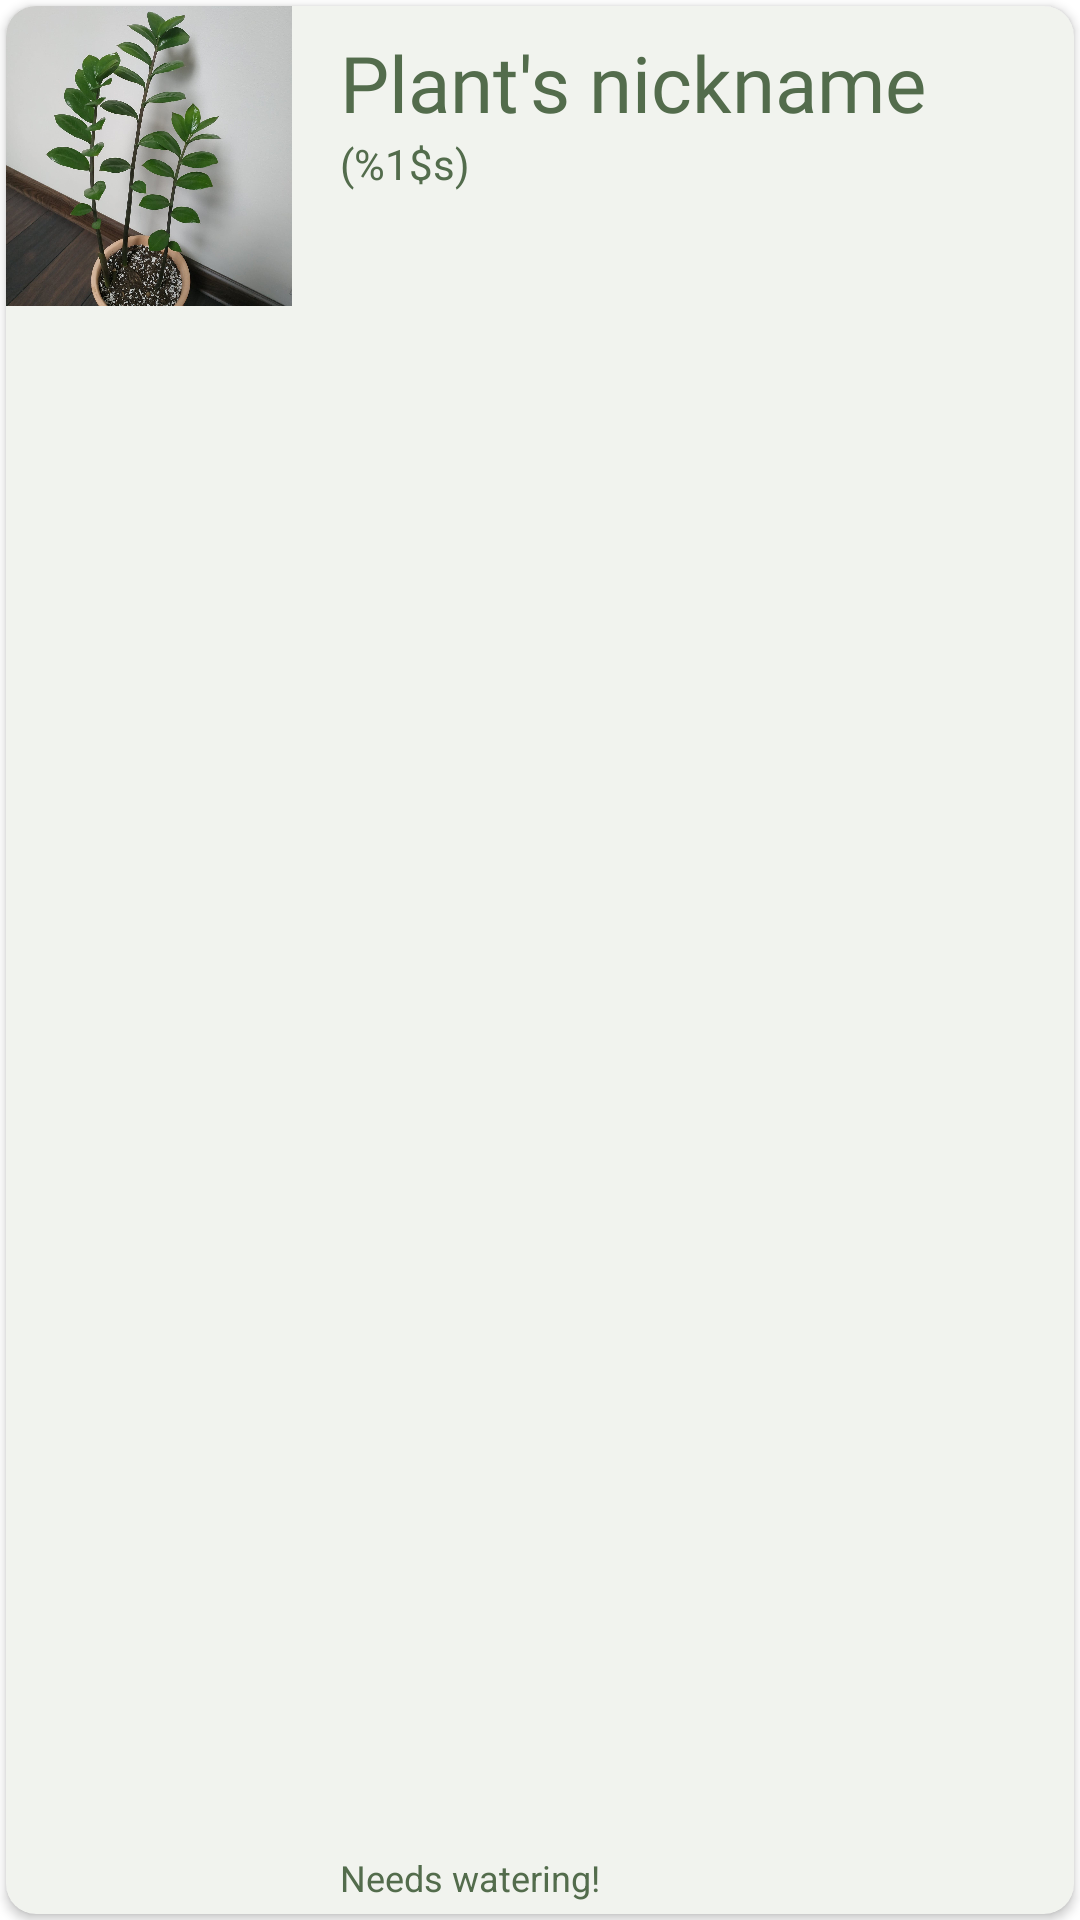

Icons on this 1080 x 1920 Android screen, each with its box as {"x1": x1, "y1": y1, "x2": x2, "y2": y2}:
Plant's most recent photo: {"x1": 6, "y1": 6, "x2": 292, "y2": 306}
